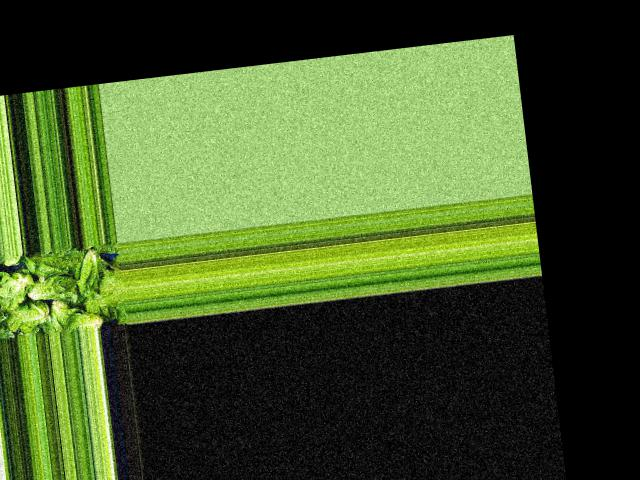lettuce: (59, 307, 110, 332)
